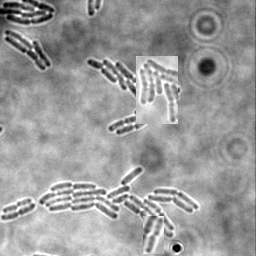Dividing: (143, 216, 164, 254), (1, 204, 37, 222), (3, 199, 33, 215)
Microcolony: (40, 167, 199, 238), (87, 59, 181, 136), (136, 56, 178, 124), (5, 30, 52, 72), (1, 1, 56, 26)
